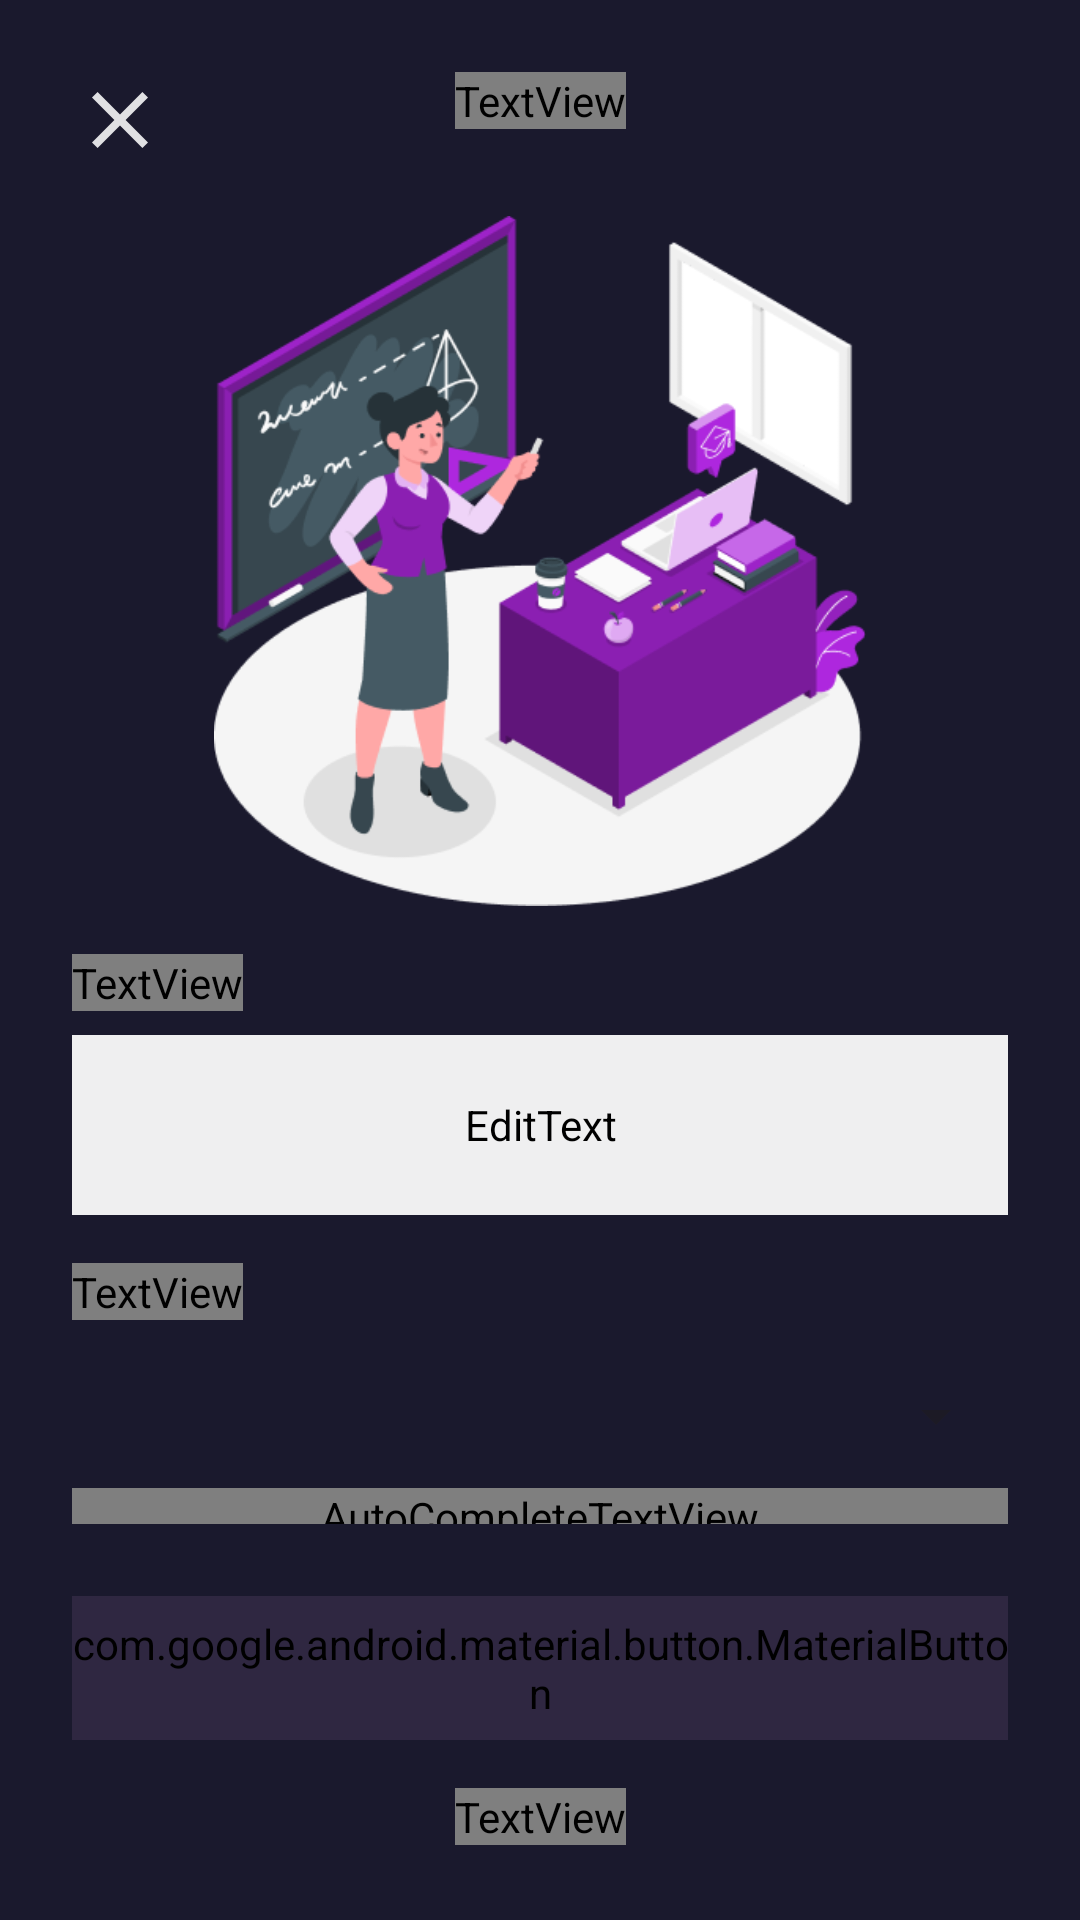

Where icons sit on this 1080×1920 app screen, as Rect(x1, y1, x2, y2):
cancel: Rect(92, 92, 148, 148)
